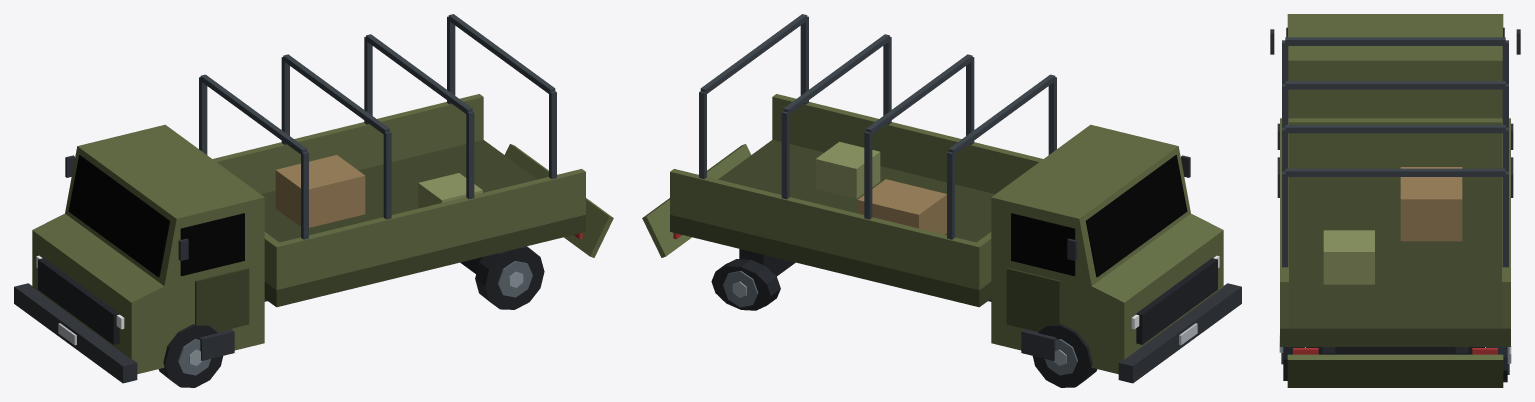
File: prop_cargo_truck.fbx
3 views of the same model, side by side, from view 1: azimuth 30°, elevation 25°; view 2: azimuth 150°, elevation 25°; view 3: azimuth 270°, elevation 25° (orthographic). The views are drawn at different scales.
Visible parts, largest first — view 1: prop_cargo_truck; view 2: prop_cargo_truck; view 3: prop_cargo_truck.
Boxes of the visible parts, x1,y1,x2,y2 form: prop_cargo_truck: [14, 14, 613, 387]; prop_cargo_truck: [642, 14, 1241, 387]; prop_cargo_truck: [1270, 14, 1520, 387].
Size of the model in its own units: 2428 by 983 by 975.
